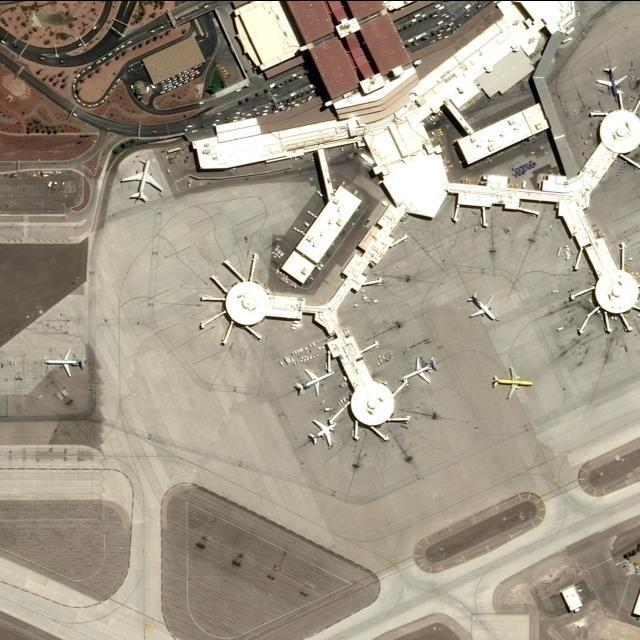Aircraft: (119, 159, 163, 203), (491, 367, 531, 401), (44, 347, 87, 377), (595, 67, 629, 97), (401, 356, 437, 384), (298, 368, 334, 396), (465, 292, 496, 322), (307, 418, 339, 447)
